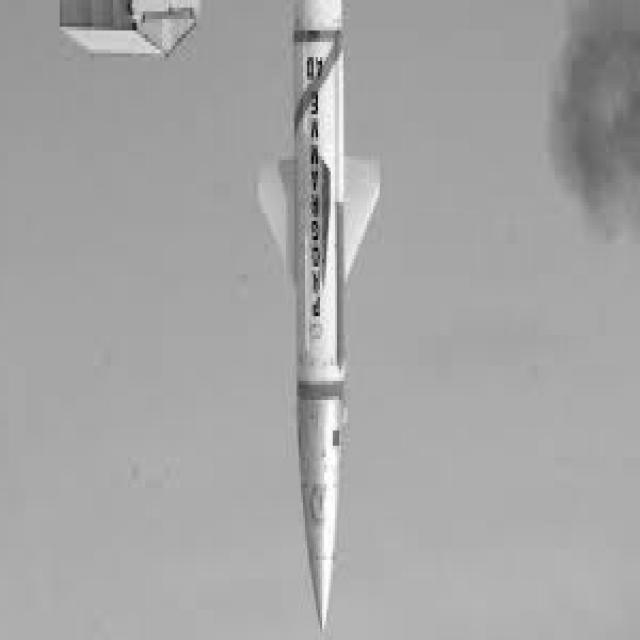Missile: (268, 0, 373, 635)
